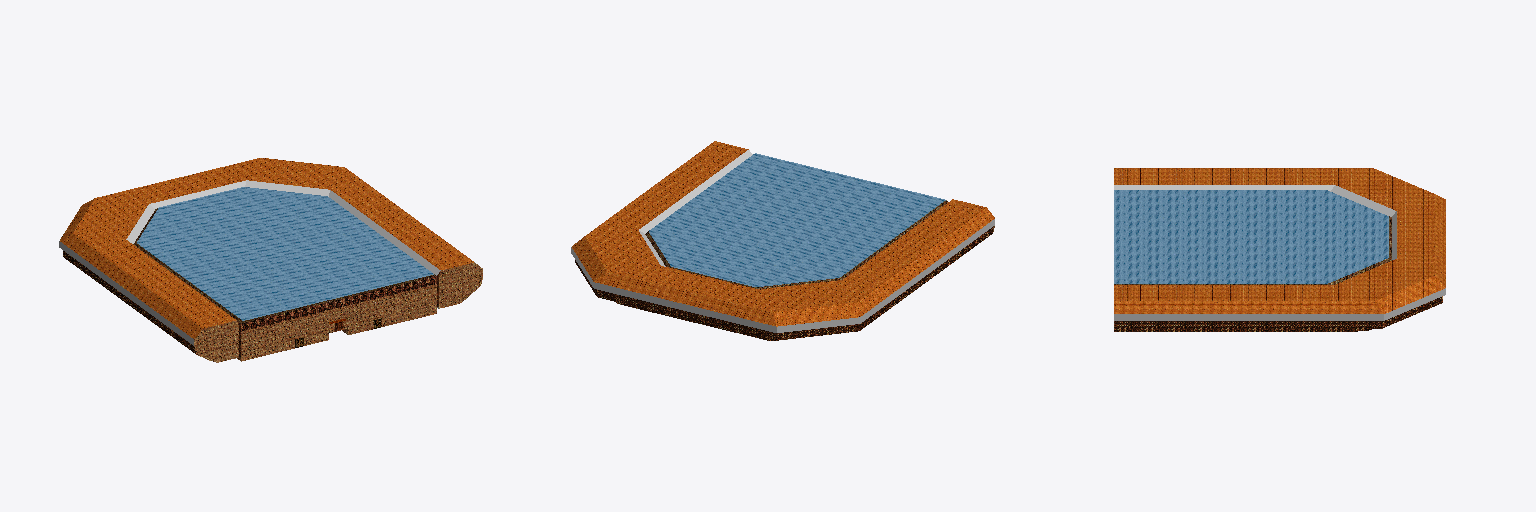
3 views of the same model, side by side, from view 1: azimuth 30°, elevation 25°; view 2: azimuth 150°, elevation 25°; view 3: azimuth 270°, elevation 25° (orthographic).
Visible parts, largest first — view 1: Room1; view 2: Room1; view 3: Room1.
Part boxes in pixels (x1,y1,x2,y2): Room1: (59,158,482,362); Room1: (571,141,994,340); Room1: (1114,168,1445,331).
Bounding box in the file's own units: 8704 × 1216 × 8640.
Materials: 19 (16 with a texture image).